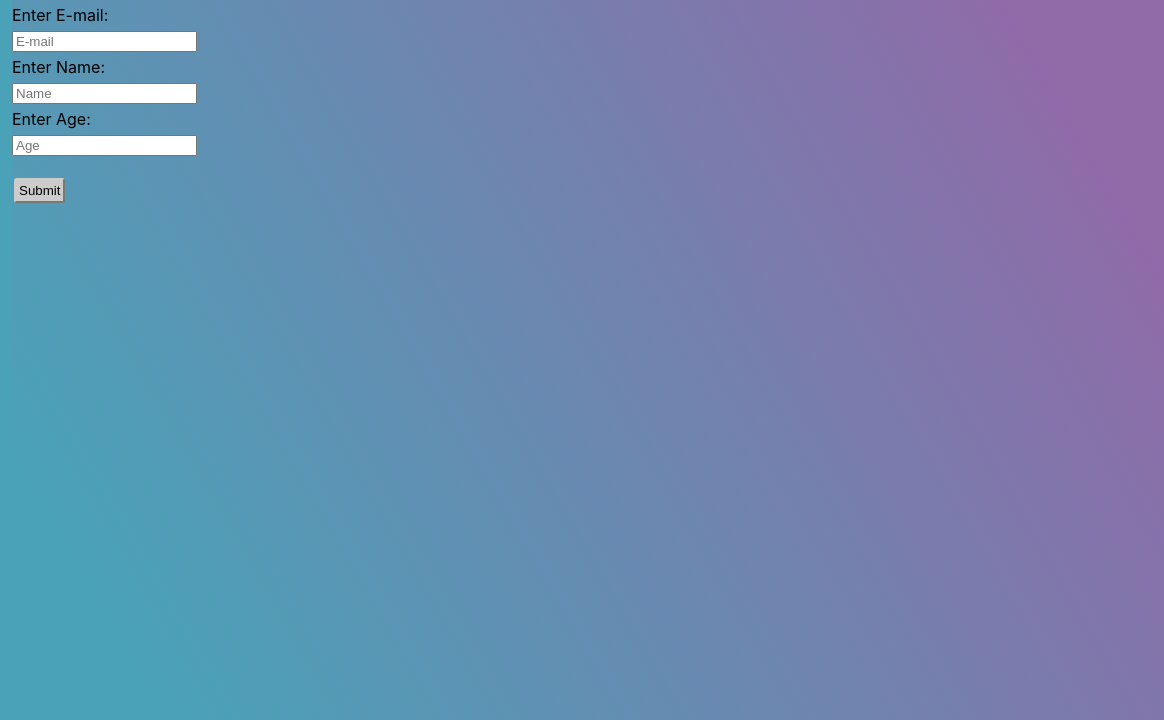
Test case: SubmitFormData Component › shall log data to the screen when submitted
The width and height of the screenshot is (1164, 720).
Step 1. Type "test@email.com" into the field with placeholder "E-mail" → point(104, 42), box 12,31 -> 197,52
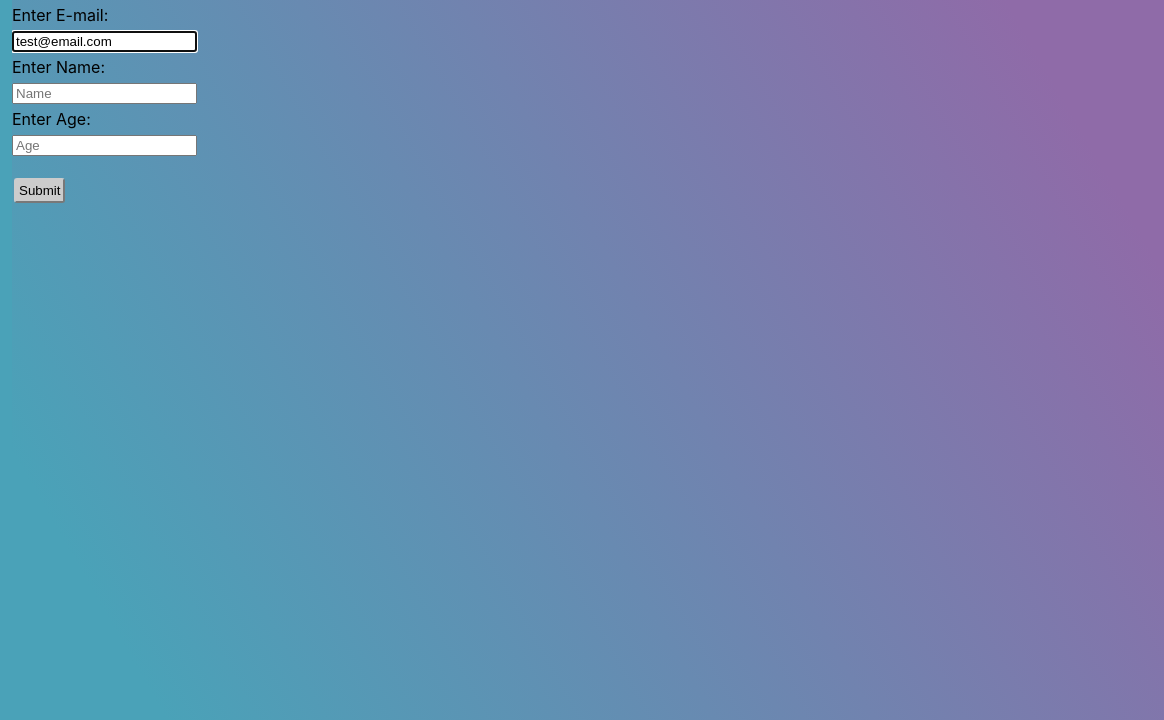
Step 2. Type "Bob" into the field with placeholder "Name" → point(104, 94), box 12,83 -> 197,104
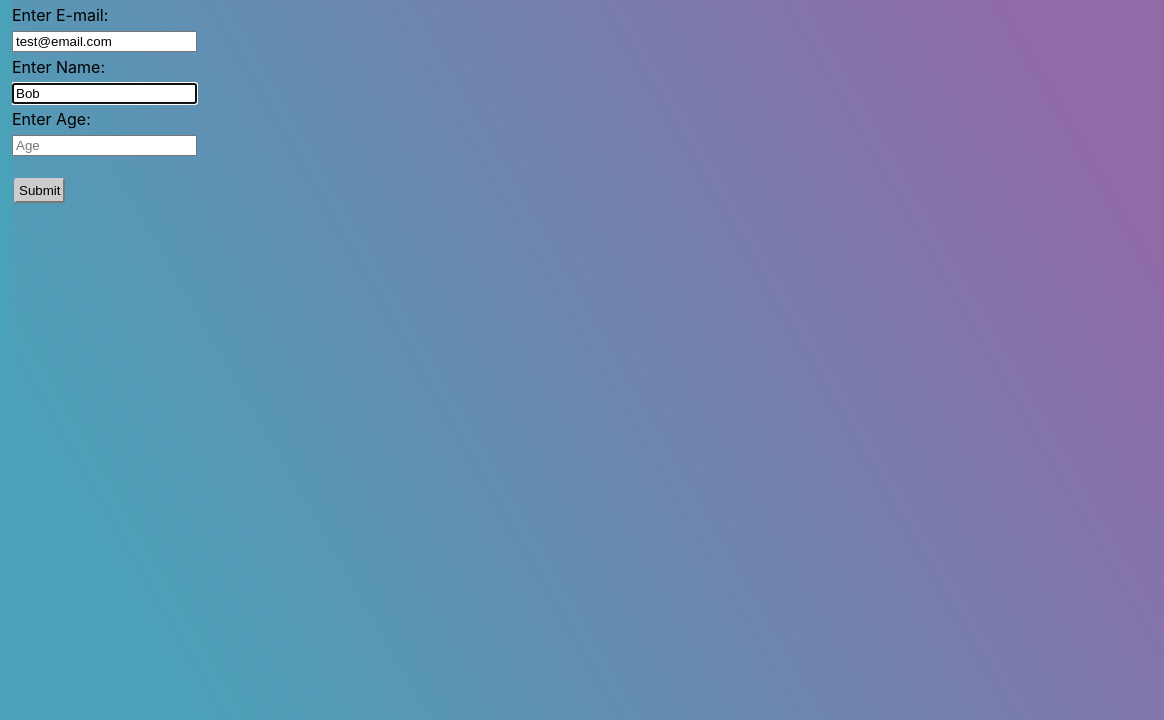
Step 3. Type "32" into the number field → point(104, 146), box 12,135 -> 197,156
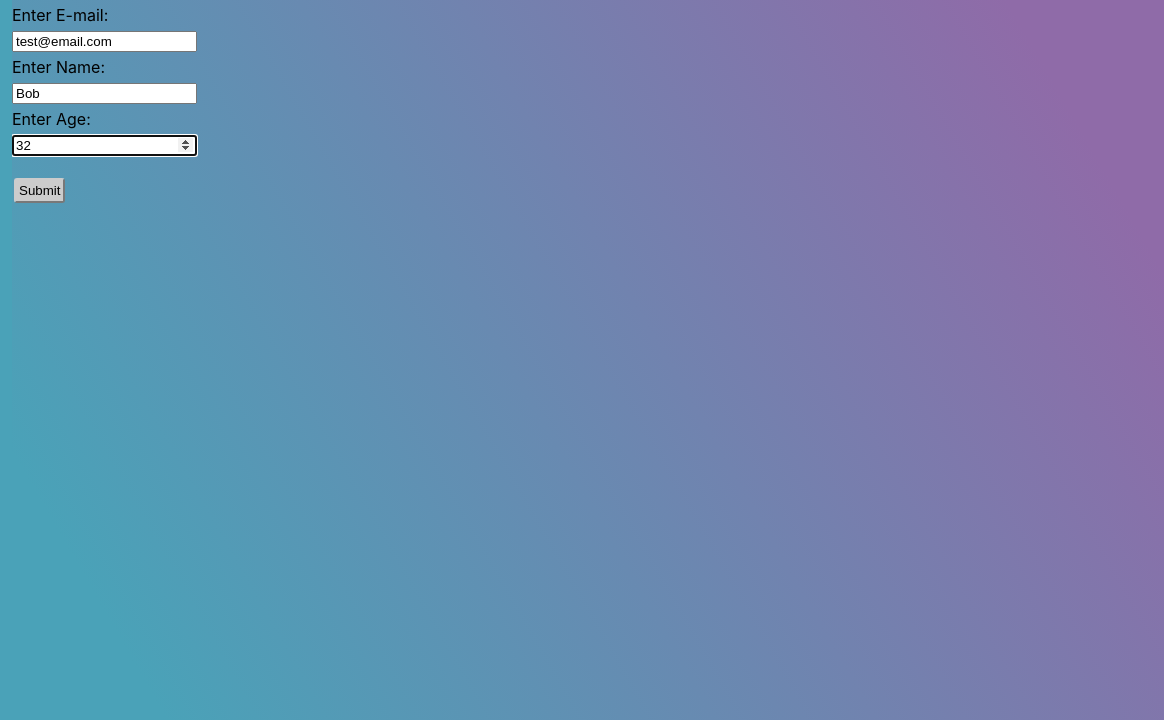
Step 4. Click the button → point(40, 190), box 14,178 -> 66,203
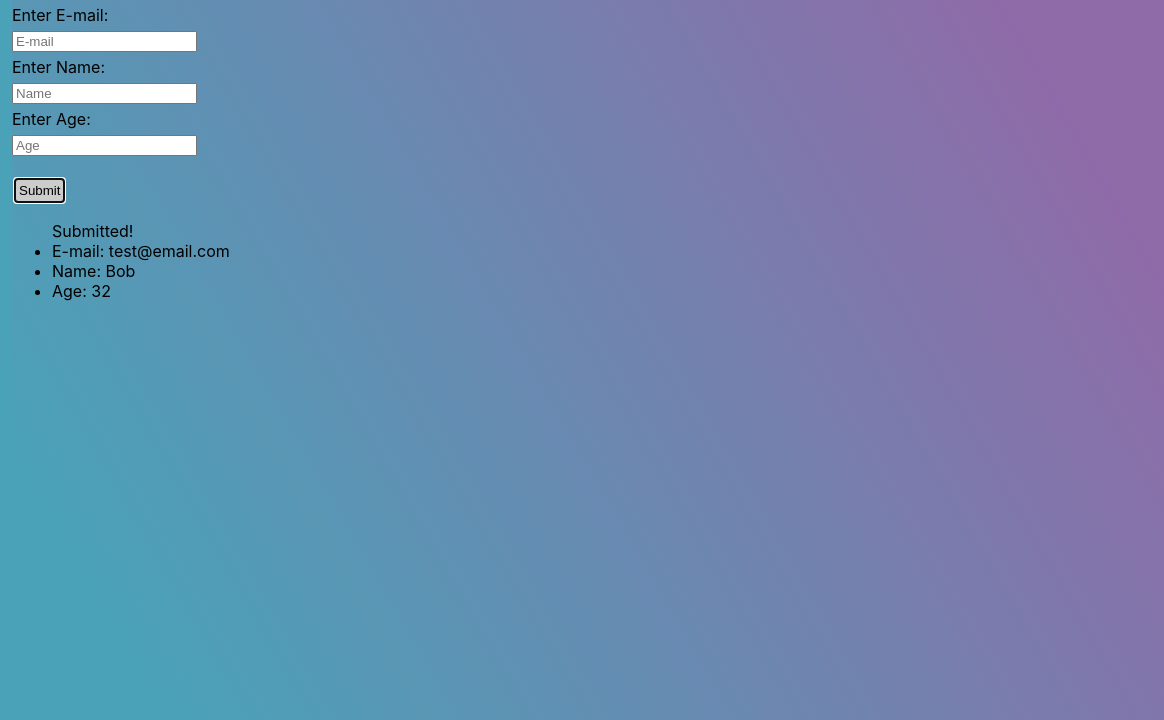
Expected: the number of list items is 3, 52,241 -> 230,261; 52,261 -> 135,281; 52,281 -> 111,301
